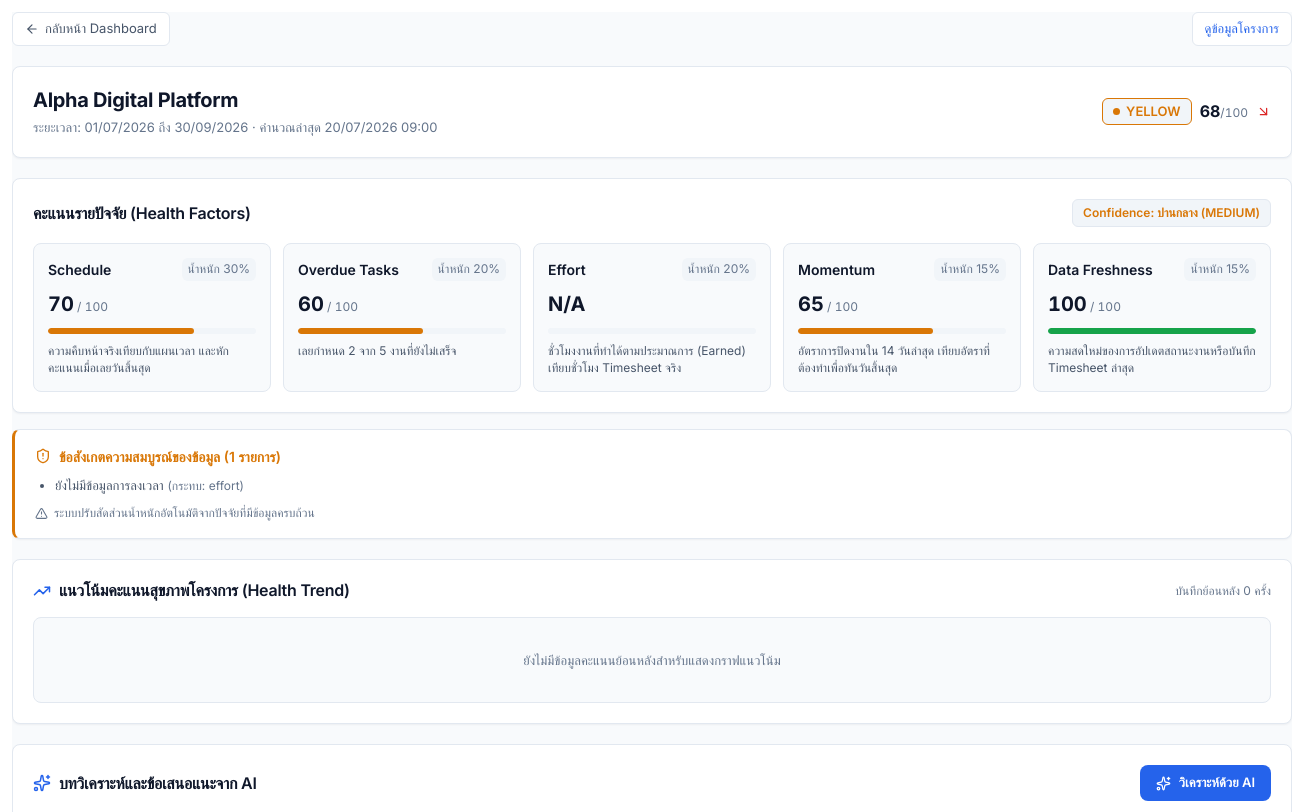
Scenario: Step 4: Project Health Dashboard Table & Detail Page UI › renders factor breakdown, data_issues, trend section, and triggers AI analysis on detail page
Check: the element with test id "factor-card-schedule" is shown, box [33,243,271,392]
Check: the element with test id "health-data-issues" shows "ยังไม่มีข้อมูลการลงเวลา", box [55,477,164,493]
Click the button with test id "btn-analyze-ai". click: coordinates (1205, 783)
box: [1140,765,1271,801]
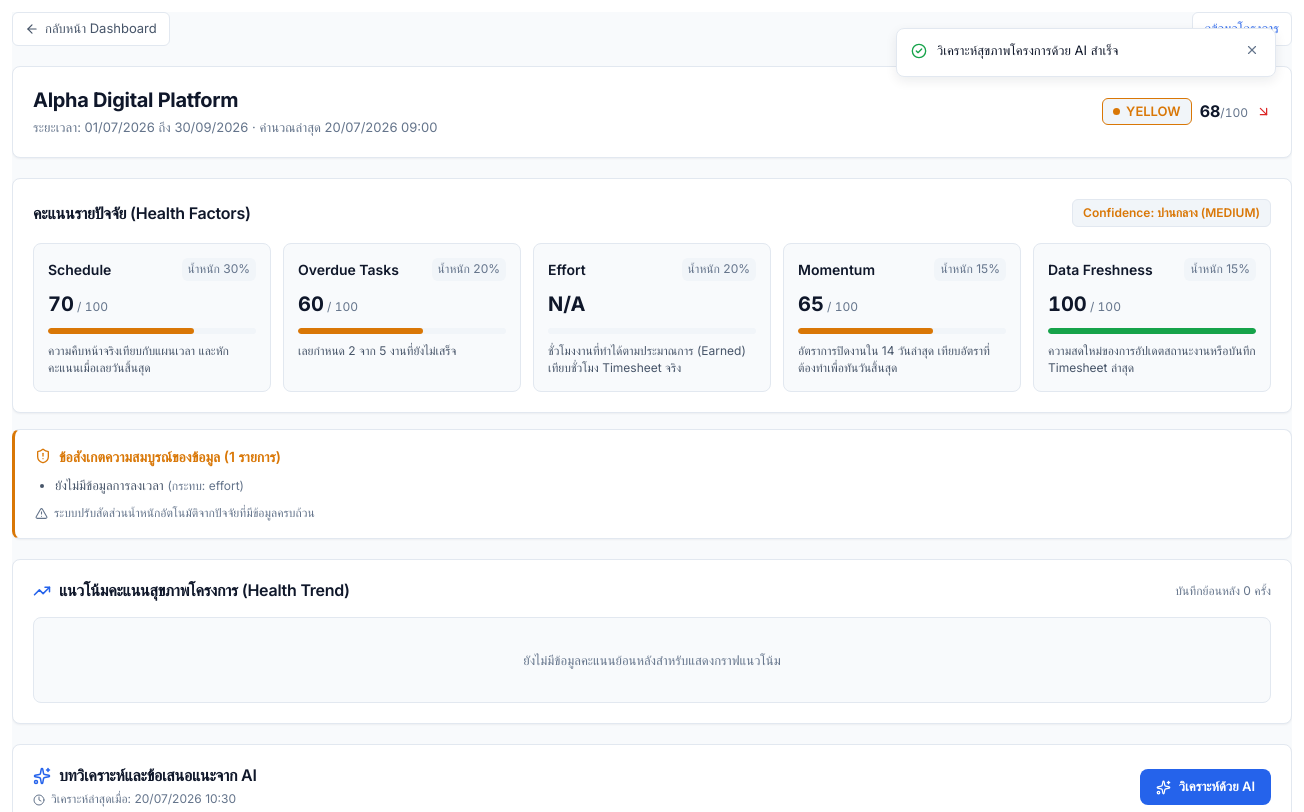
Check: the element with test id "ai-analyzed-at" is shown, box [33,790,257,809]
